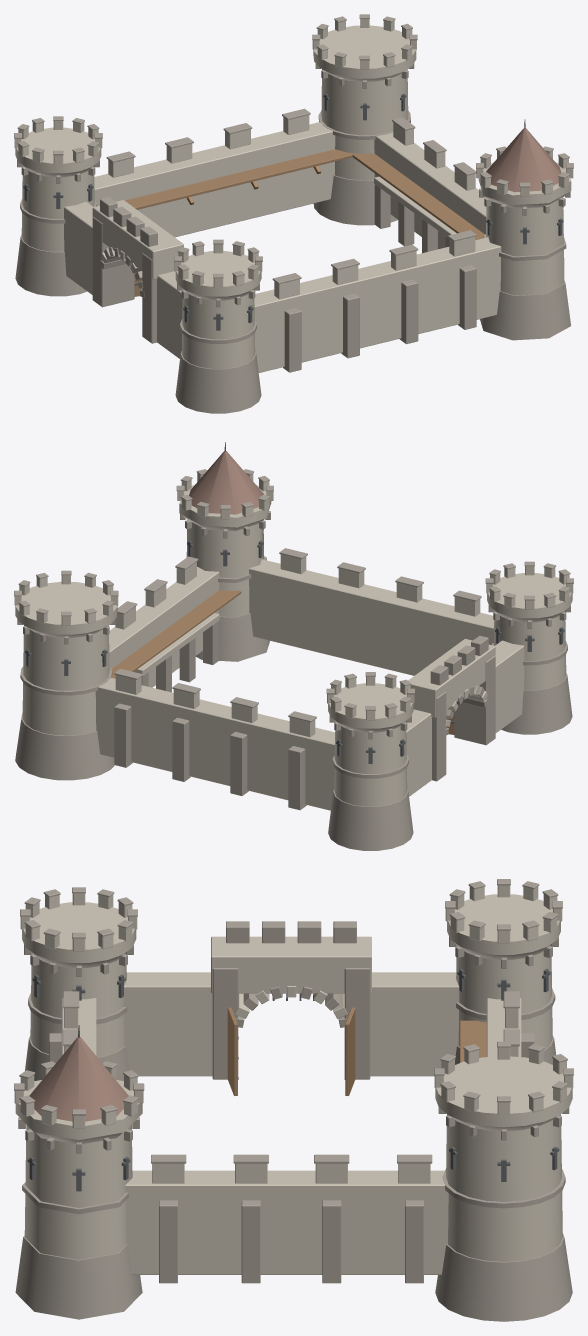
Rendered from OW_AydosCastle.fbx.
The picture shows the model from 3 angles, top to bottom: view 1: azimuth 30°, elevation 25°; view 2: azimuth 150°, elevation 25°; view 3: azimuth 270°, elevation 25°; orthographic projection. The views are drawn at different scales.
Parts seen in each view (by area): view 1: OW_AydosCastle; view 2: OW_AydosCastle; view 3: OW_AydosCastle.
Part boxes in pixels (x1,y1,x2,y2): OW_AydosCastle: (14,14,573,413); OW_AydosCastle: (14,442,573,850); OW_AydosCastle: (14,879,573,1321).
Size of the model in its own units: 26.77 by 13.2 by 25.04.
